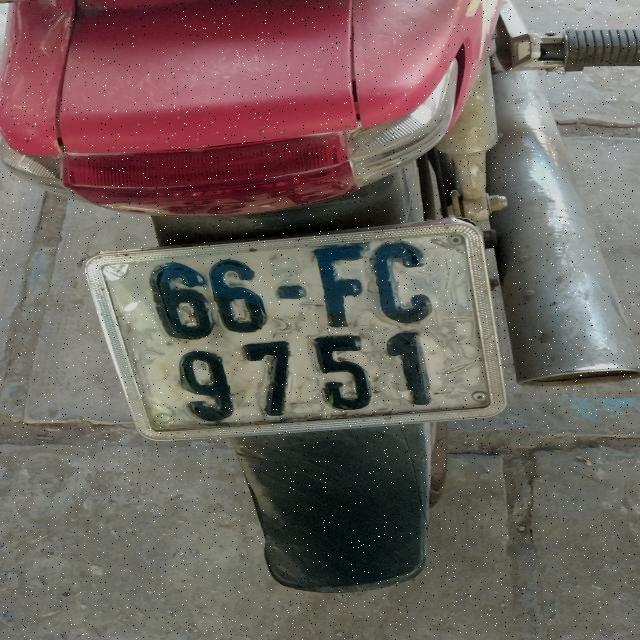1: (383, 330, 445, 408)
5: (314, 330, 381, 411)
6: (148, 260, 211, 344), (207, 255, 270, 334)
7: (244, 338, 292, 415)
9: (175, 346, 237, 424)
C: (374, 239, 439, 324)
F: (314, 243, 368, 329)
